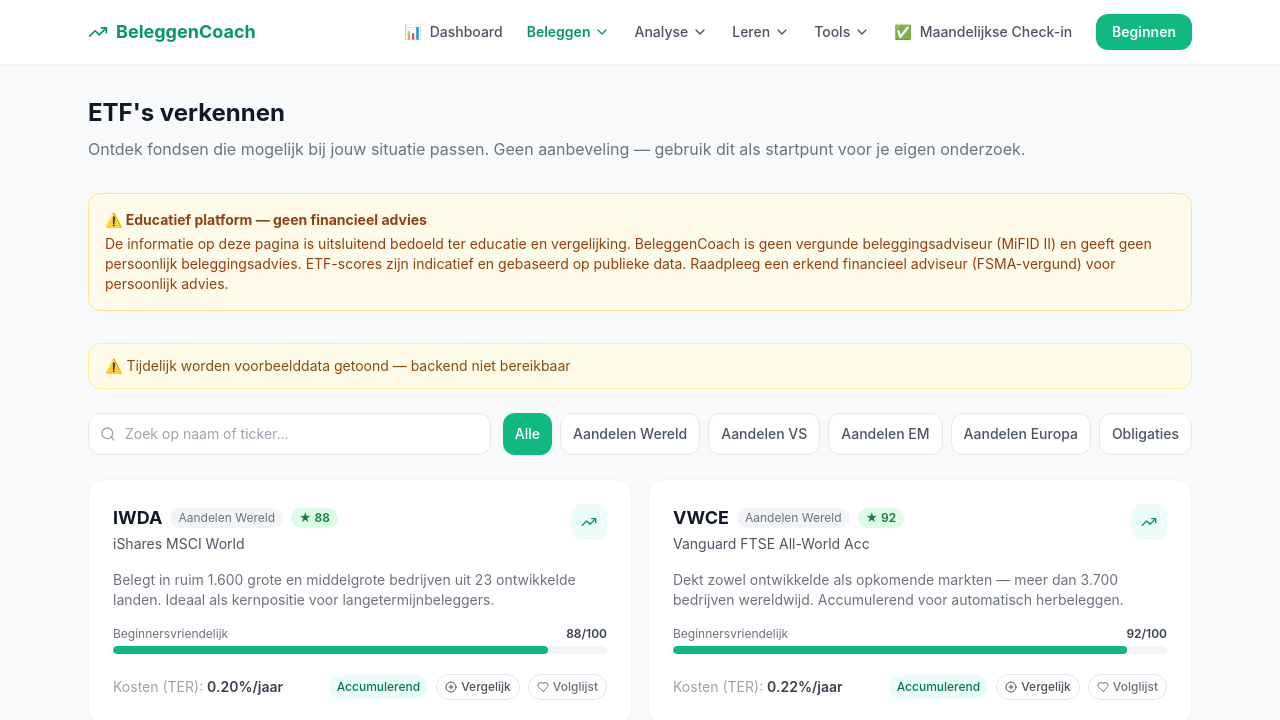
Test: ETF Explorer (/etfs) › Zoeken op naam of ticker › filtert ETF's op ticker via het zoekveld
In the field with placeholder "Zoek op naam of ticker...": [290, 434] box [88,413,491,455], type "VWCE"
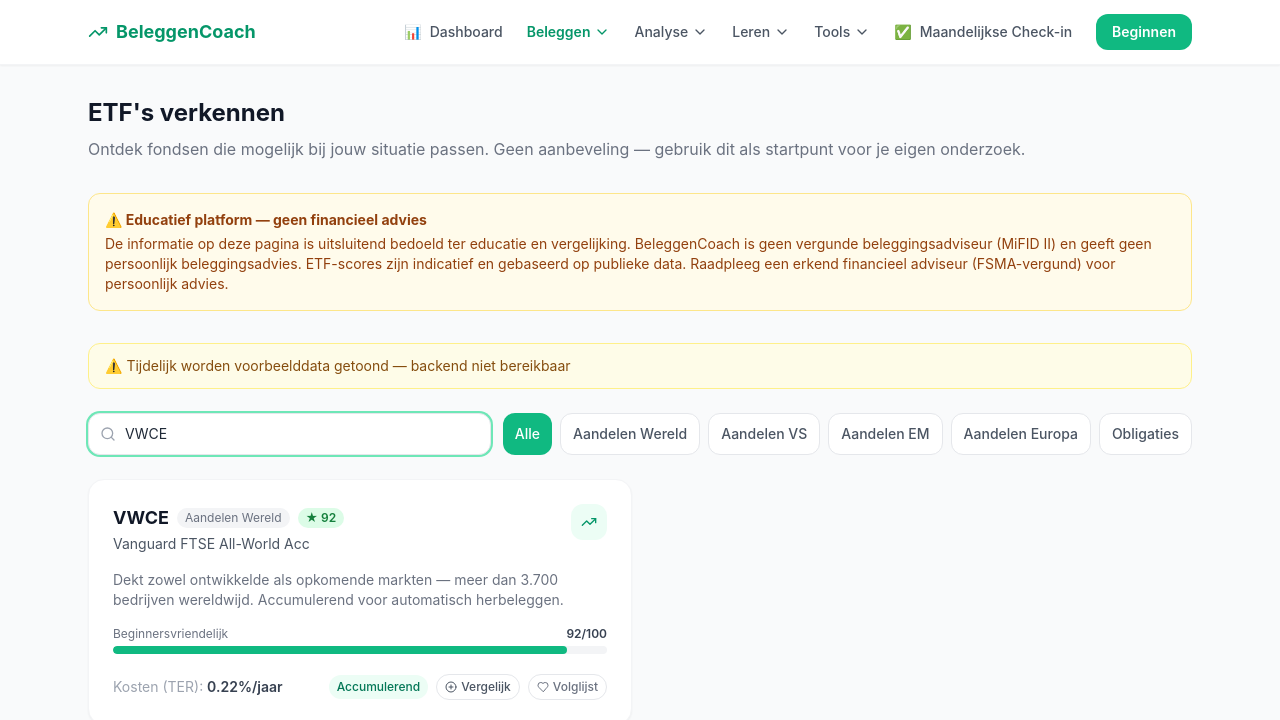
Expected: the text "VWCE" is shown, [113,504,169,532]
Expected: the number of elements with test id "etf-card" is at least 1, [88,479,632,719]
